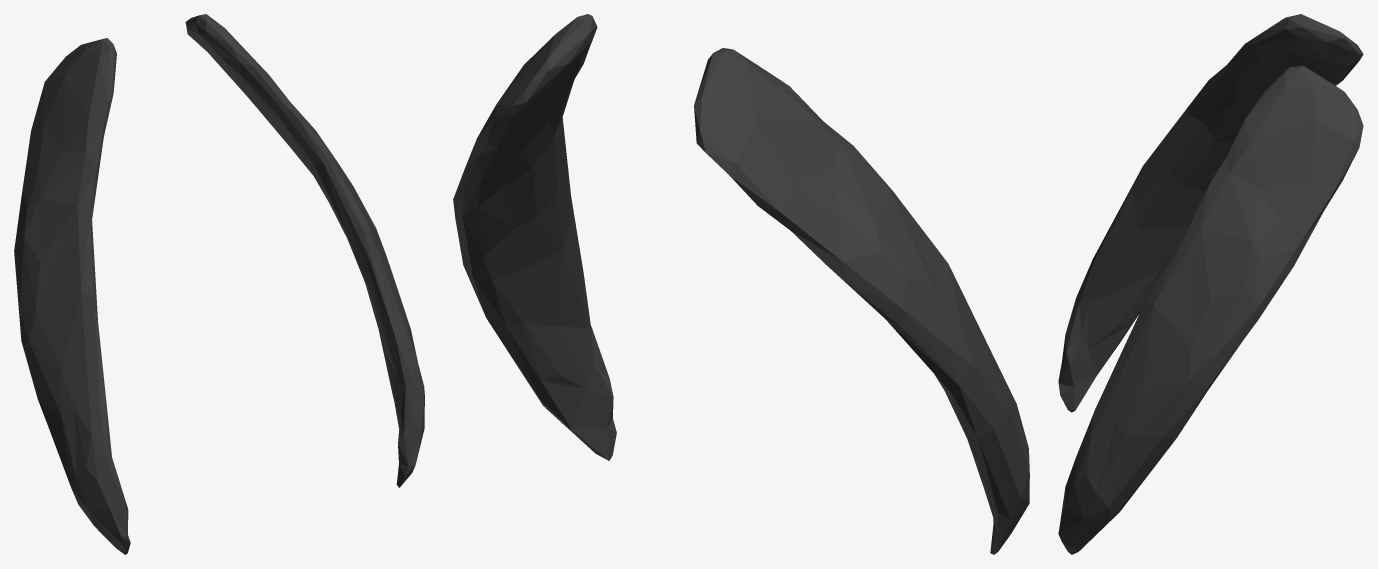
The model's file is m_deltoid_scapular.glb.
3 renders of one model, left to right at view 1: azimuth 30°, elevation 25°; view 2: azimuth 150°, elevation 25°; view 3: azimuth 270°, elevation 25°, orthographic. The views are drawn at different scales.
Visible parts, largest first — view 1: m_deltoid_scapular; view 2: m_deltoid_scapular; view 3: m_deltoid_scapular.
Boxes of the visible parts, x1,y1,x2,y2 form: m_deltoid_scapular: (14, 14, 424, 554); m_deltoid_scapular: (453, 14, 1029, 554); m_deltoid_scapular: (1058, 14, 1363, 554).
Size of the model in its own units: 0.00769 by 0.00849 by 0.0053.
Materials: 1 (1 with a texture image).
